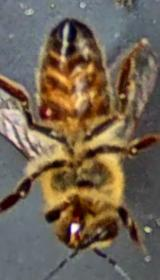varroa_mite: (30, 98, 66, 124)
